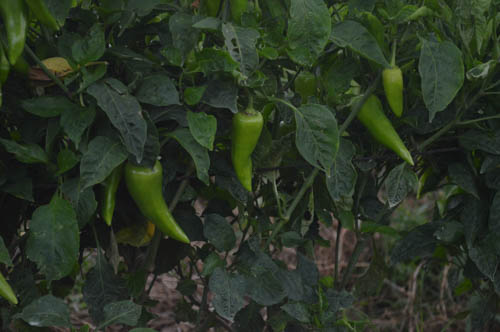ChiliPepper: (129, 165, 194, 246), (355, 97, 413, 165), (231, 112, 260, 194), (92, 168, 122, 228), (2, 4, 27, 60), (380, 67, 408, 115), (30, 4, 63, 32)
